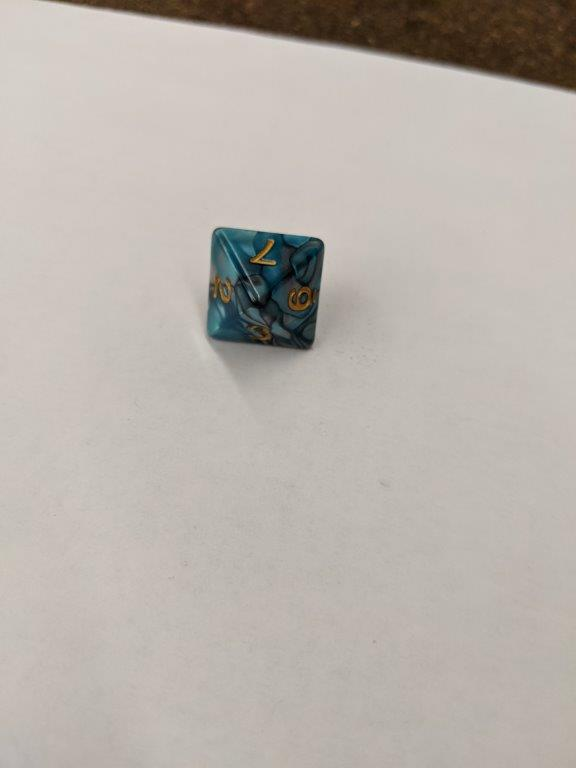d8-7: (202, 226, 323, 352)
